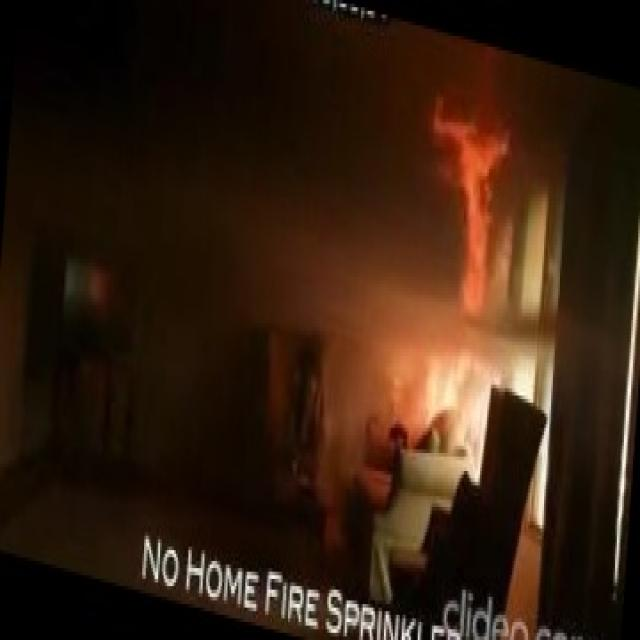fire: (402, 54, 522, 428)
